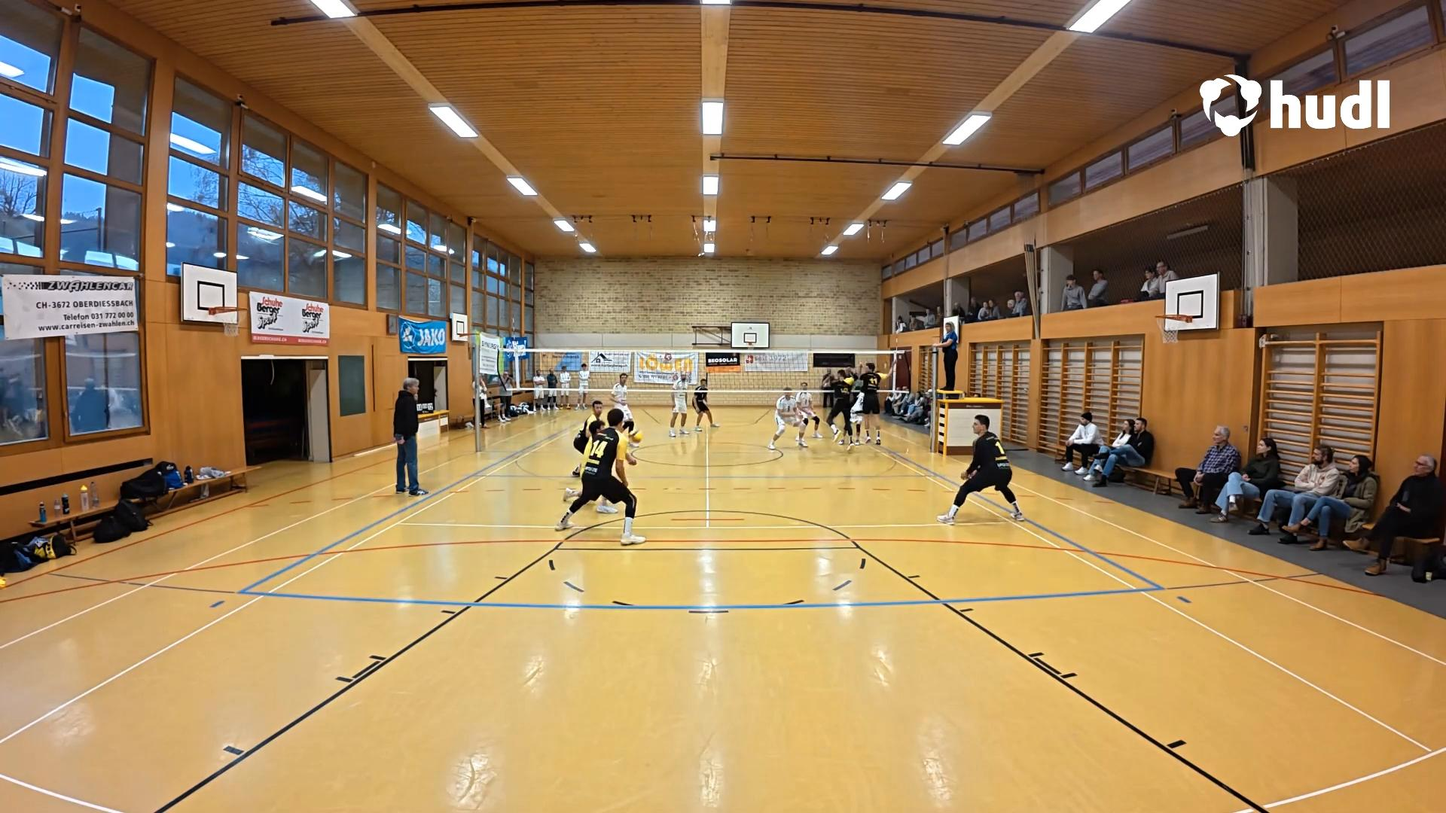Dig: (557, 414, 643, 516)
Player: (936, 415, 1020, 523), (559, 440, 641, 544), (849, 352, 888, 450), (825, 364, 856, 450), (610, 367, 641, 435), (566, 396, 604, 450), (795, 380, 822, 445), (768, 393, 795, 454), (666, 368, 688, 440), (690, 377, 714, 434), (847, 382, 865, 449)
ball: (627, 427, 643, 445)
